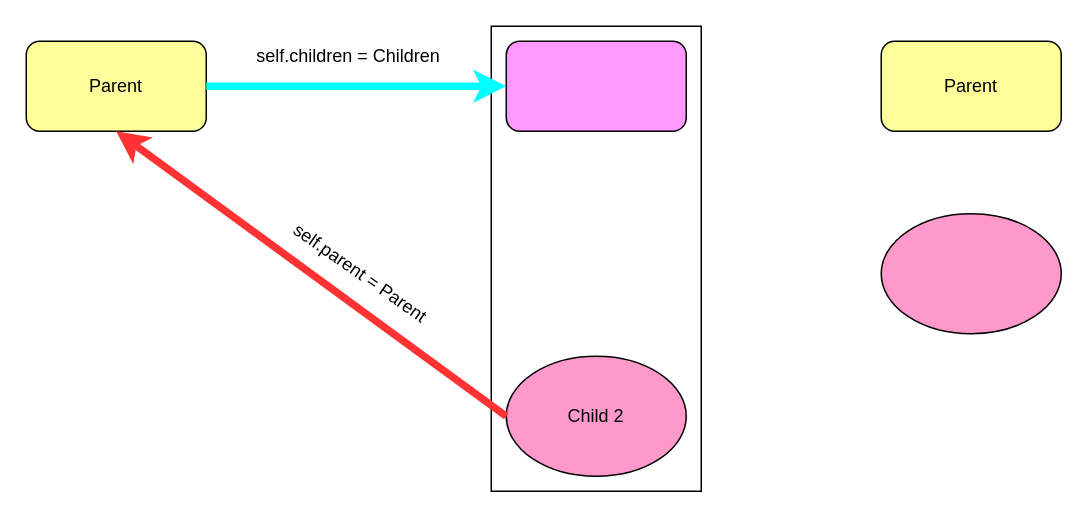
This 1088x518 diagram has some shape labels left out. The centre of each missing label's shape, as x and y in pixels:
"Child 1" goes at [970,273].
"Children" goes at [595,85].
